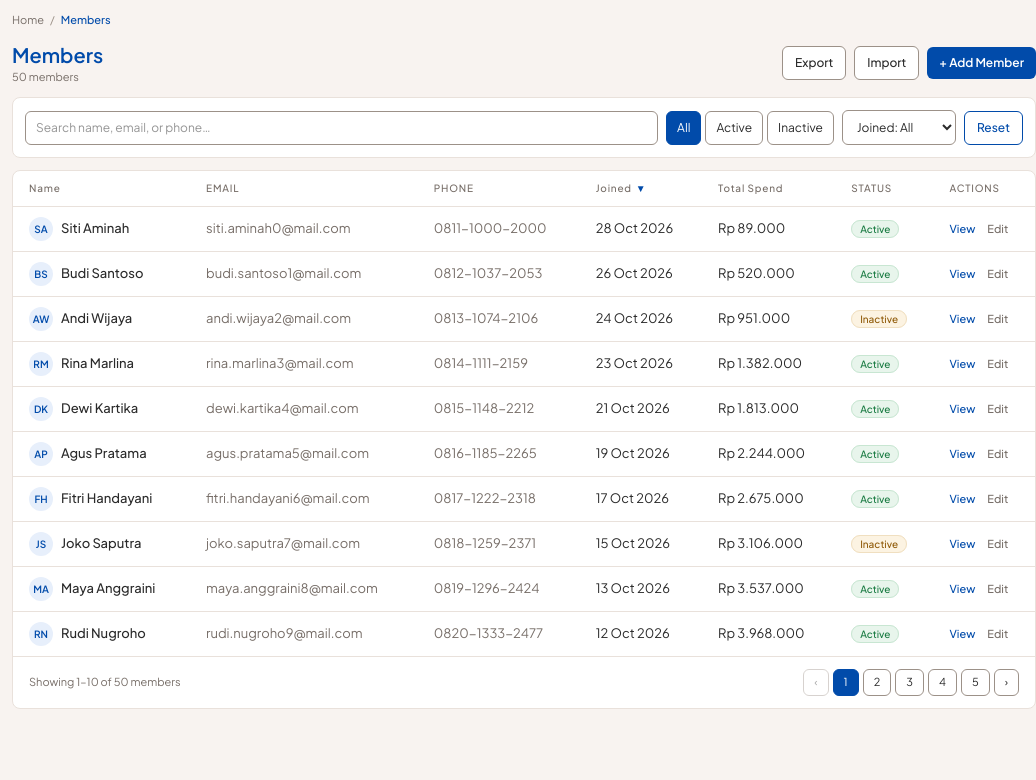
Test: member page › shows the empty state when nothing matches
This screenshot has width=1036, height=780.
In the search field named "Search members": (342,128) [25,110,658,144], type "zzzz"
Wait 250 ms
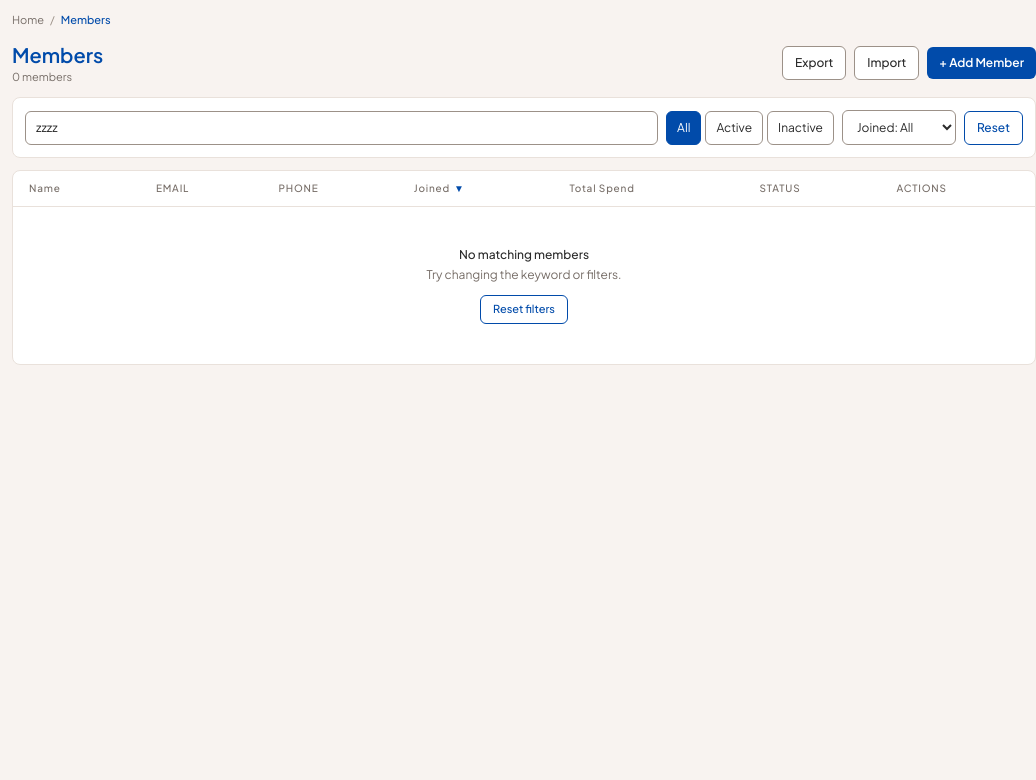
Now the text "No matching members" is shown, box [459,247,589,262]
Now the text "Try changing the keyword or filters." is shown, box [426,267,622,282]
